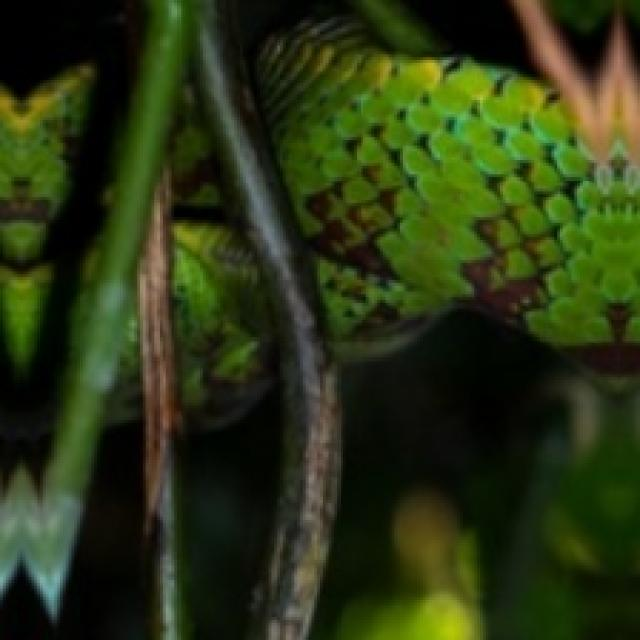philippine pitviper: (258, 22, 640, 346), (0, 65, 89, 373), (176, 221, 274, 428)
